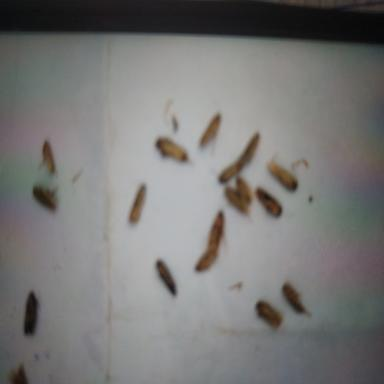pbw: (266, 152, 298, 192), (282, 283, 311, 317), (156, 138, 192, 164), (200, 114, 221, 155), (24, 291, 42, 336), (39, 139, 59, 178), (208, 212, 228, 249), (256, 188, 282, 216), (256, 300, 282, 328), (224, 187, 250, 214), (130, 184, 148, 222), (156, 260, 176, 294), (32, 184, 58, 210), (240, 132, 260, 164), (216, 161, 242, 183), (196, 250, 217, 271), (236, 176, 250, 202)
